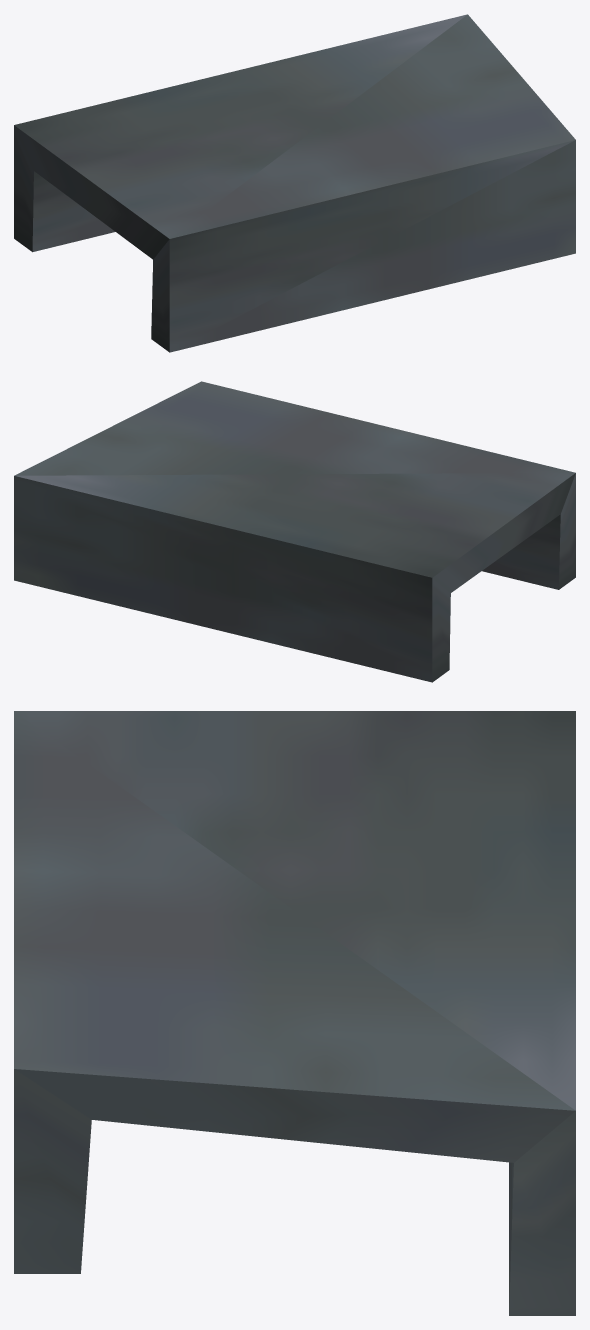
Rendered from Shared - Armor - Tanker Truck - Damage State 15 - CVTanker_d15.glb.
The picture shows the model from 3 angles, top to bottom: view 1: azimuth 30°, elevation 25°; view 2: azimuth 150°, elevation 25°; view 3: azimuth 270°, elevation 25°; orthographic projection. The views are drawn at different scales.
Parts seen in each view (by area): view 1: CVTANKER_D15; view 2: CVTANKER_D15; view 3: CVTANKER_D15.
Boxes of the visible parts, x1,y1,x2,y2 form: CVTANKER_D15: (14,14,575,352); CVTANKER_D15: (14,381,575,682); CVTANKER_D15: (14,711,575,1315).
Bounding box in the file's own units: 8.16 × 1.95 × 4.85.
1 material, 1 textured.
